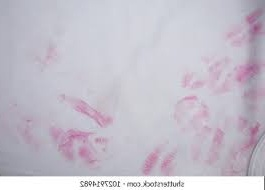lipstick: (136, 112, 260, 178), (50, 129, 110, 169), (51, 96, 116, 126), (172, 93, 215, 134), (180, 57, 224, 90), (228, 12, 263, 47), (228, 57, 263, 87), (7, 108, 33, 147), (36, 43, 59, 72)
